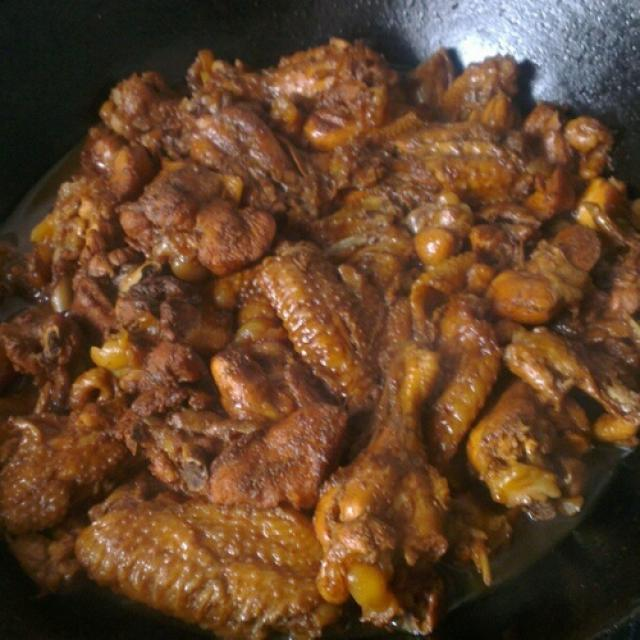鸡肉料理 含炸鸡: (19, 23, 613, 616)
